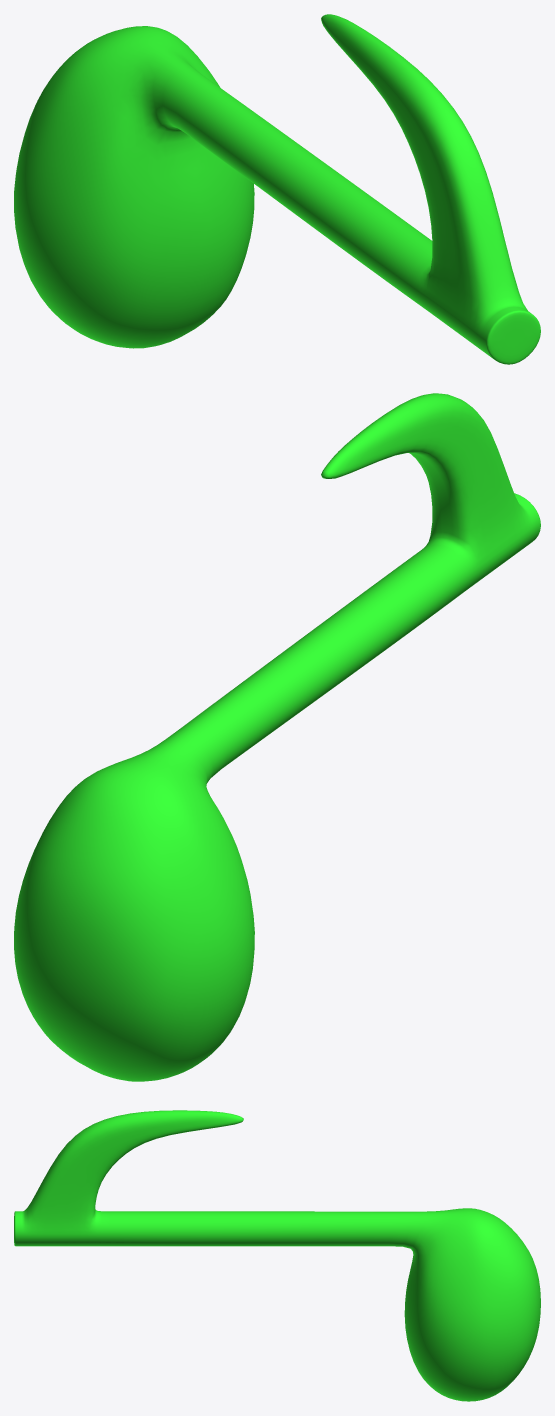
Rendered from Musicnote.obj.
3 views of the same model, one above another, from view 1: azimuth 30°, elevation 25°; view 2: azimuth 150°, elevation 25°; view 3: azimuth 270°, elevation 25° (orthographic). The views are drawn at different scales.
Parts seen in each view (by area): view 1: Musicnote; view 2: Musicnote; view 3: Musicnote.
Part boxes in pixels (left/top/right/bottom): Musicnote: left=14, top=14, right=540, bottom=364; Musicnote: left=14, top=393, right=540, bottom=1081; Musicnote: left=14, top=1110, right=540, bottom=1401.
Size of the model in its own units: 0.2775 by 0.5979 by 1.
